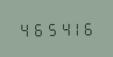five: (44, 20, 56, 37)
four: (17, 20, 29, 37), (57, 19, 69, 36)
one: (70, 19, 82, 36)
six: (30, 20, 42, 37), (83, 19, 95, 36)
